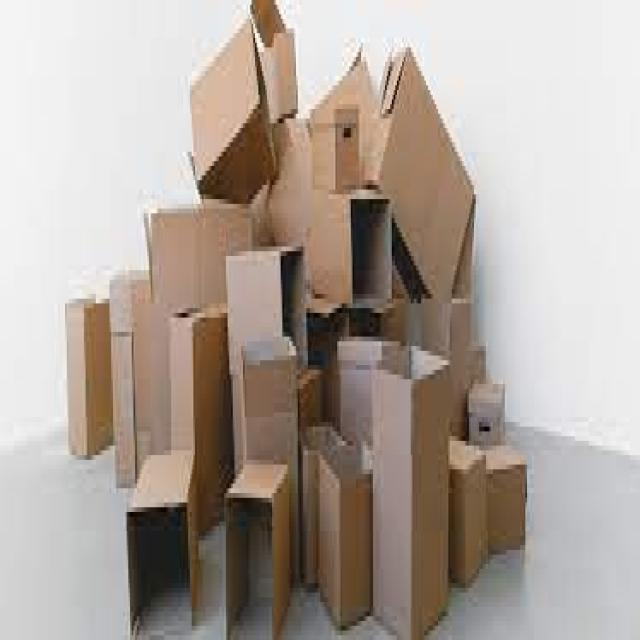Vidrio: (371, 370, 414, 632), (110, 278, 162, 463), (170, 323, 202, 533), (312, 198, 354, 296)
